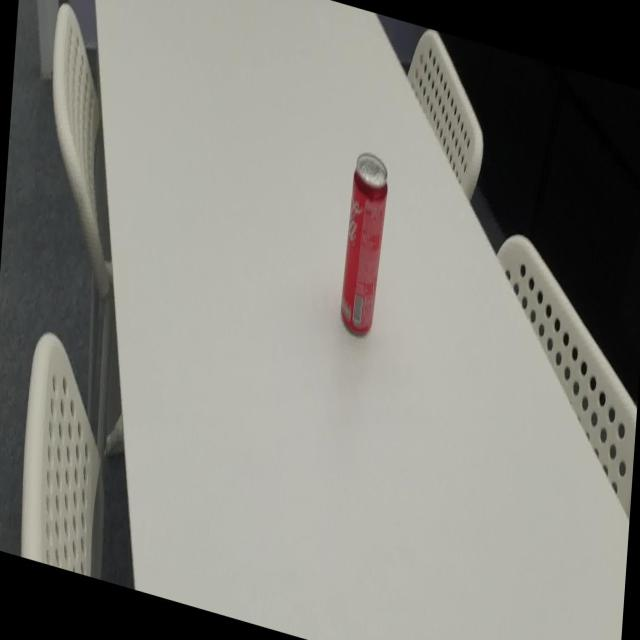coca-cola: (339, 147, 390, 339)
